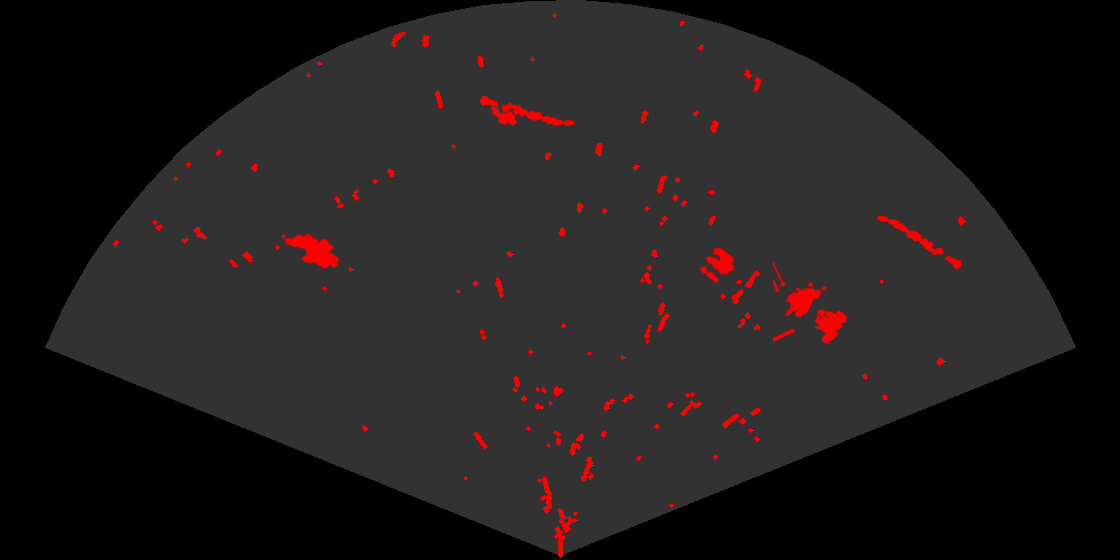AUV: (282, 232, 341, 271), (488, 98, 519, 128)
ball: (698, 246, 736, 284)
cage: (773, 260, 849, 346)
chain: (876, 214, 964, 271), (478, 94, 577, 128)
